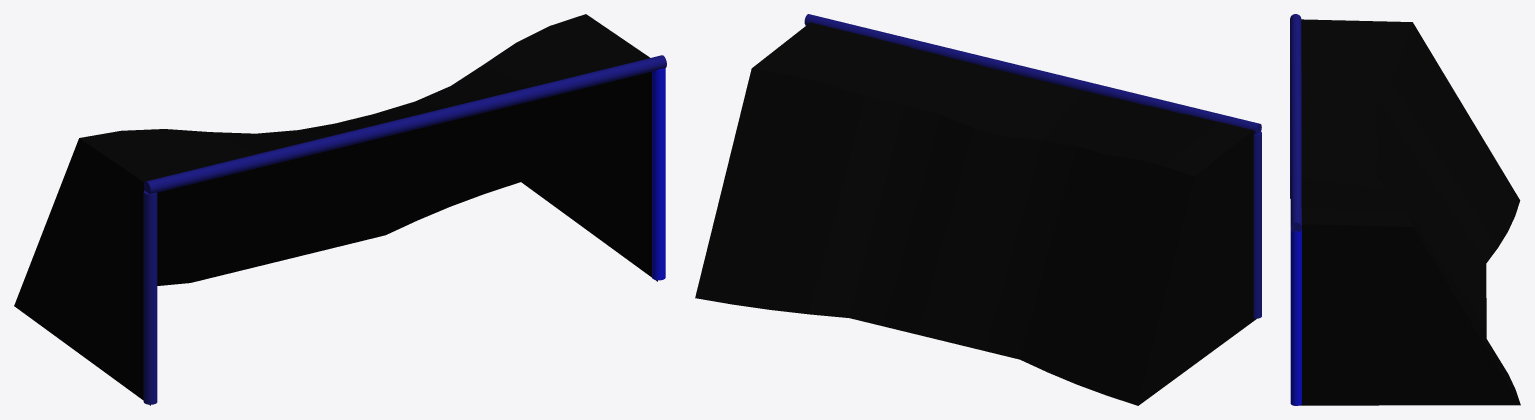
File: arco azul.fbx
3 views of the same model, side by side, from view 1: azimuth 30°, elevation 25°; view 2: azimuth 150°, elevation 25°; view 3: azimuth 270°, elevation 25° (orthographic). The views are drawn at different scales.
Parts seen in each view (by area): view 1: Cylinder.005; view 2: Cylinder.005; view 3: Cylinder.005.
Boxes of the visible parts, x1=… form: Cylinder.005: x1=14, y1=14, x2=666, y2=405; Cylinder.005: x1=695, y1=14, x2=1261, y2=405; Cylinder.005: x1=1290, y1=14, x2=1520, y2=405.
Bounding box in the file's own units: 2888 × 1188 × 1340.
